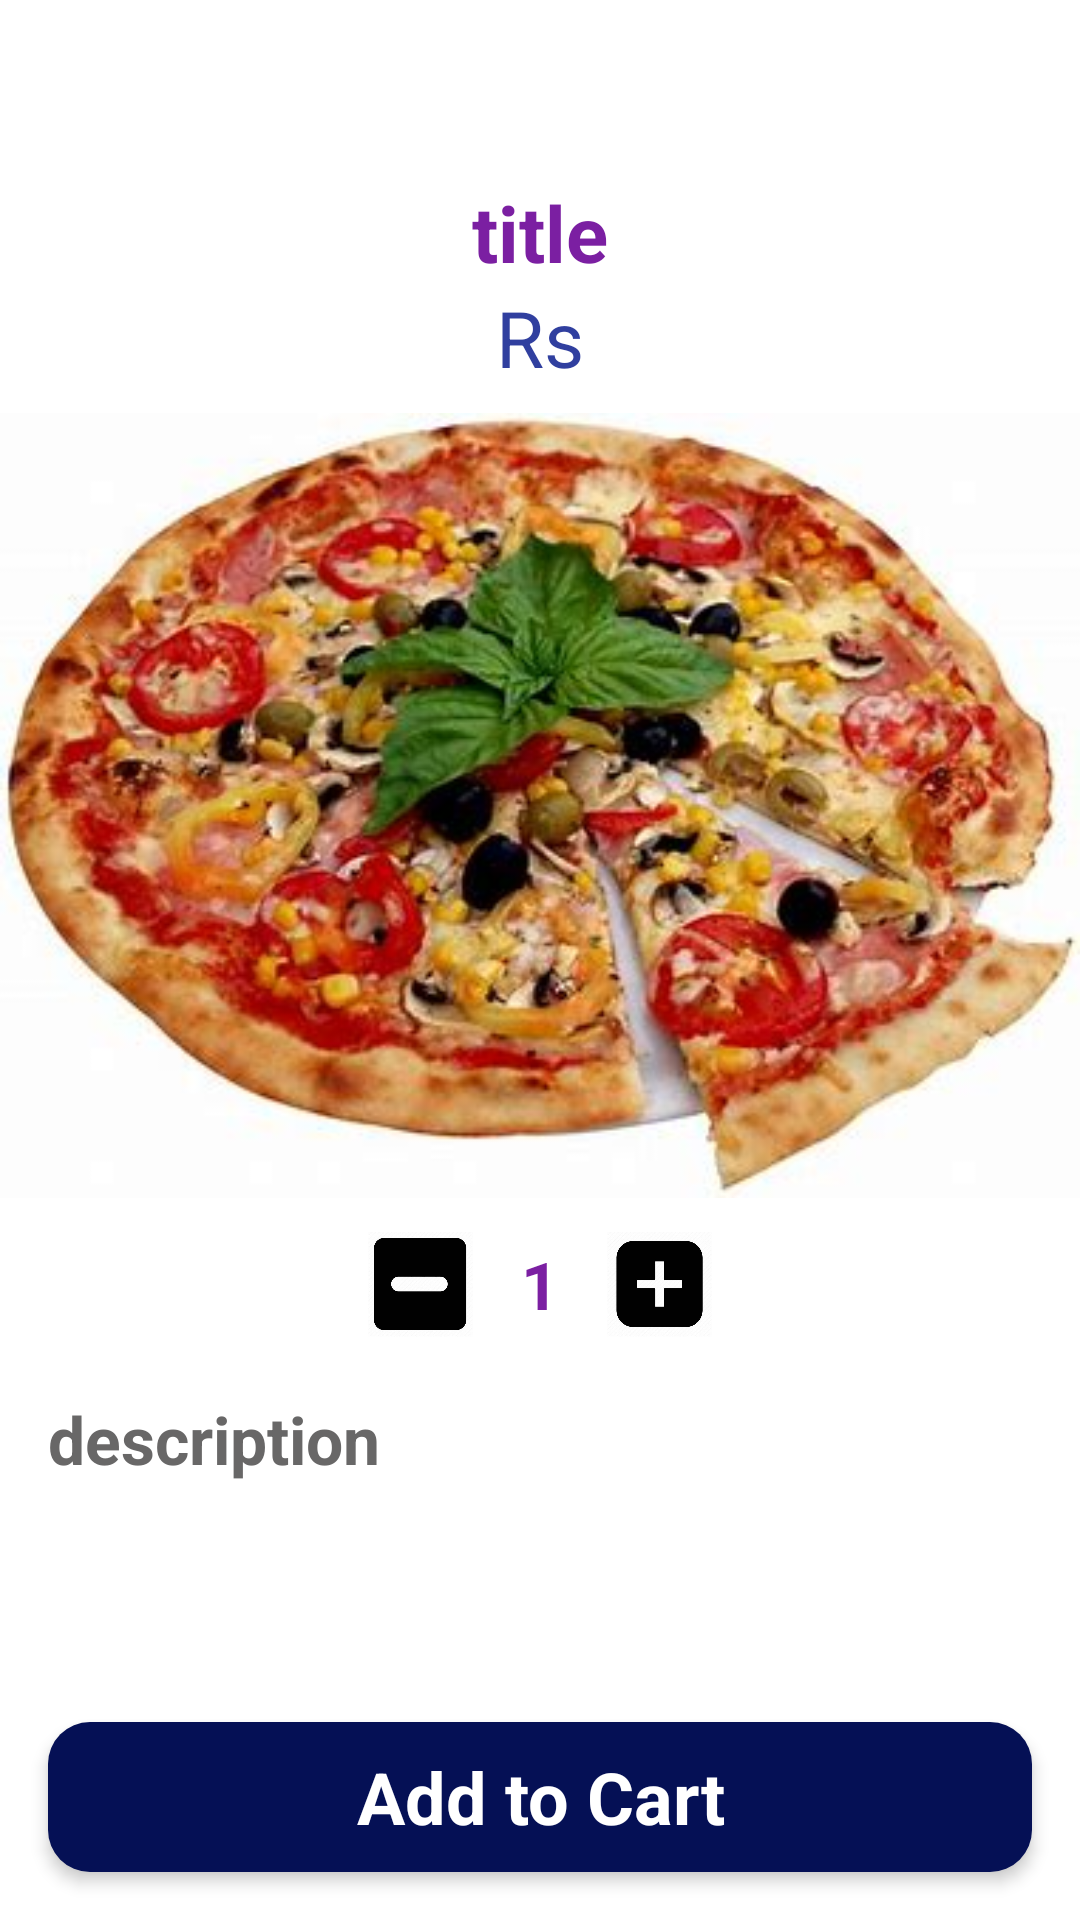

Where to tap for icons on this 1080w x 1920h app screen, as [x,y]:
minus: [420,1284]
plus: [659,1284]
